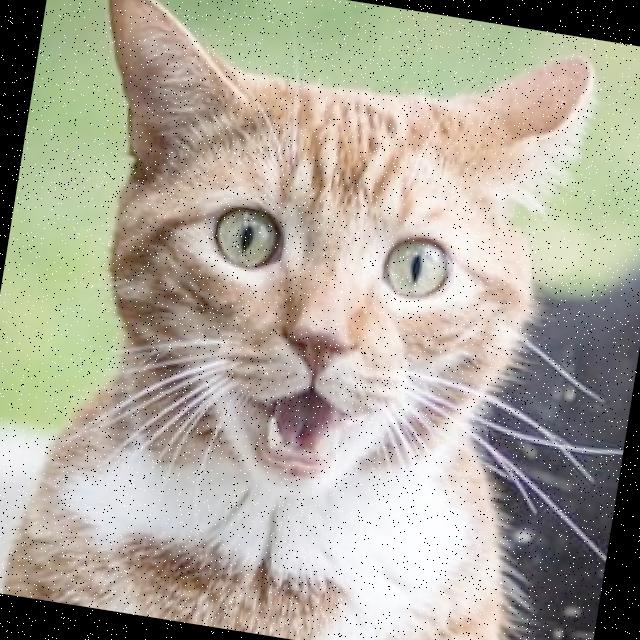Surprised: (133, 160, 496, 510)
